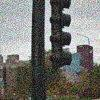traffic lights: (50, 0, 74, 70)
